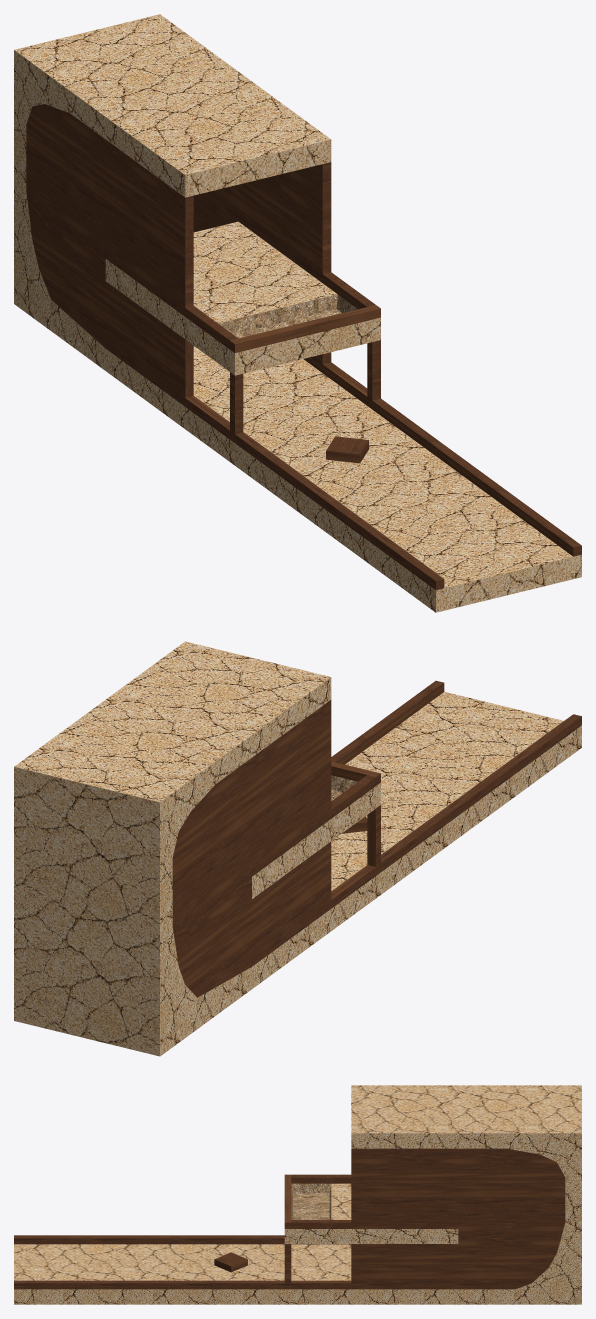
File: Stage2-04.gltf
The picture shows the model from 3 angles, top to bottom: view 1: azimuth 30°, elevation 25°; view 2: azimuth 150°, elevation 25°; view 3: azimuth 270°, elevation 25°; orthographic projection. The views are drawn at different scales.
Parts seen in each view (by area): view 1: Cube.001; view 2: Cube.001; view 3: Cube.001.
Part boxes in pixels (left/top/right/bottom): Cube.001: left=14, top=14, right=581, bottom=612; Cube.001: left=14, top=641, right=581, bottom=1056; Cube.001: left=14, top=1085, right=581, bottom=1304.
Bounding box in the file's own units: 3.4 × 5.65 × 17.
6 materials, 6 textured.
